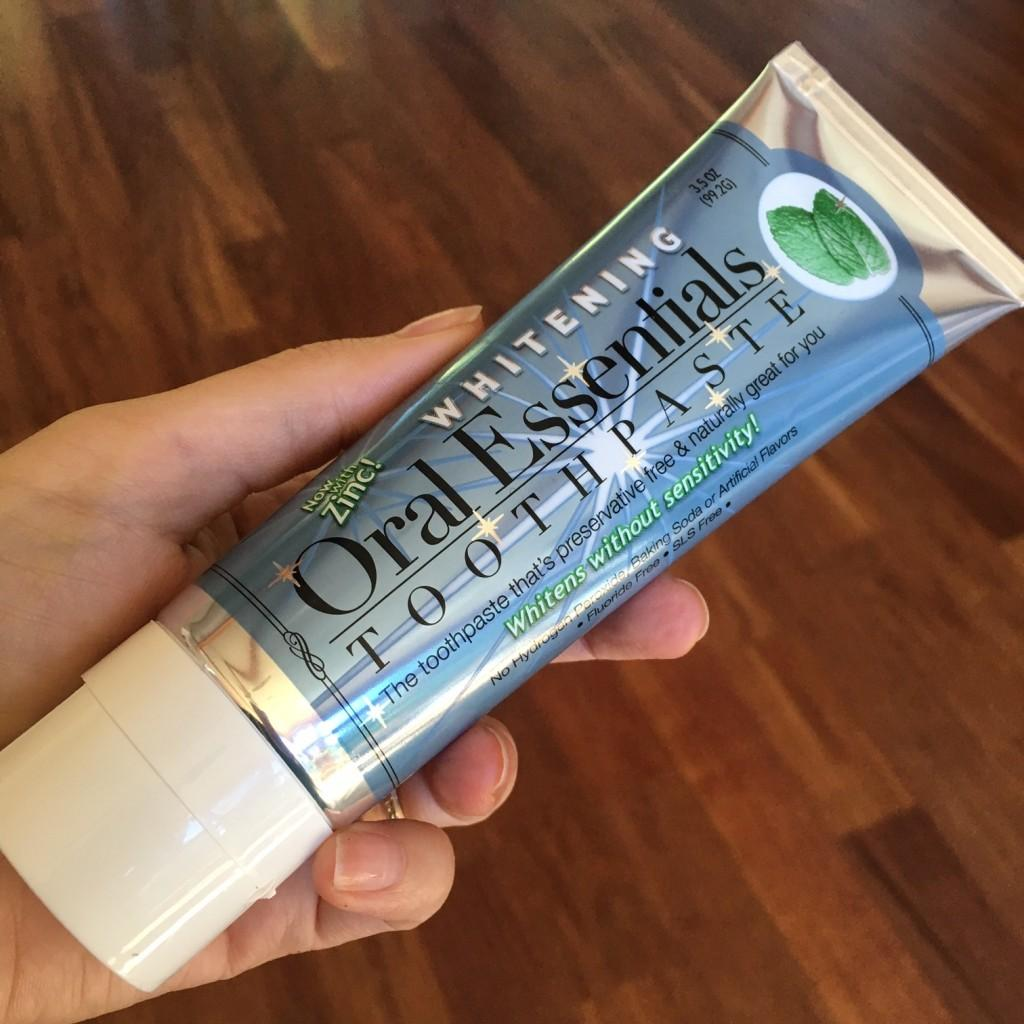toothpaste: (0, 34, 1024, 1001)
